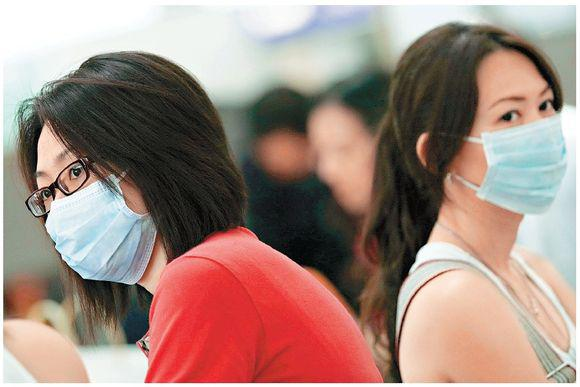OK: (443, 84, 571, 222), (25, 147, 153, 275)
